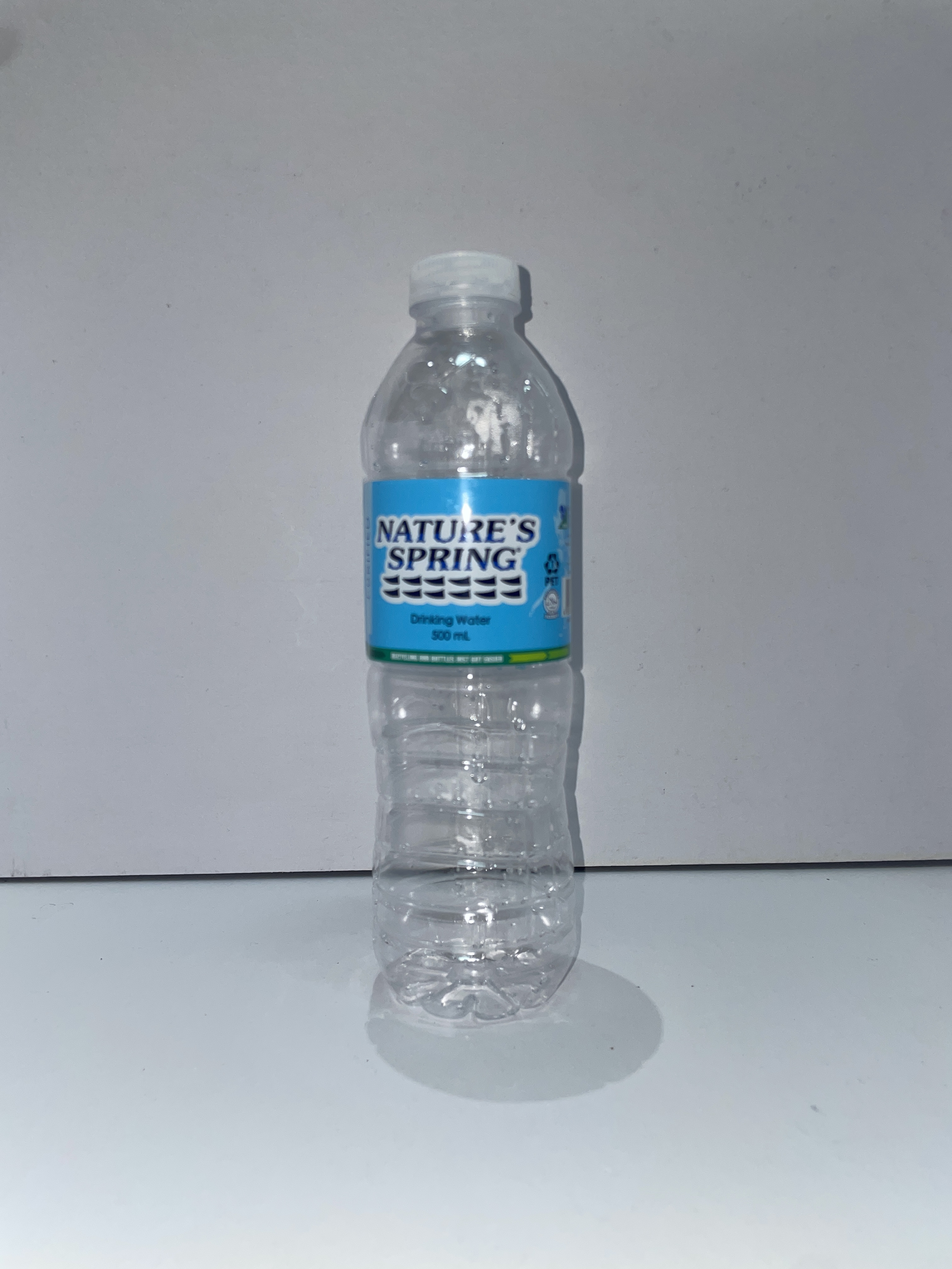natures spring 500ml: (362, 251, 579, 1023)
